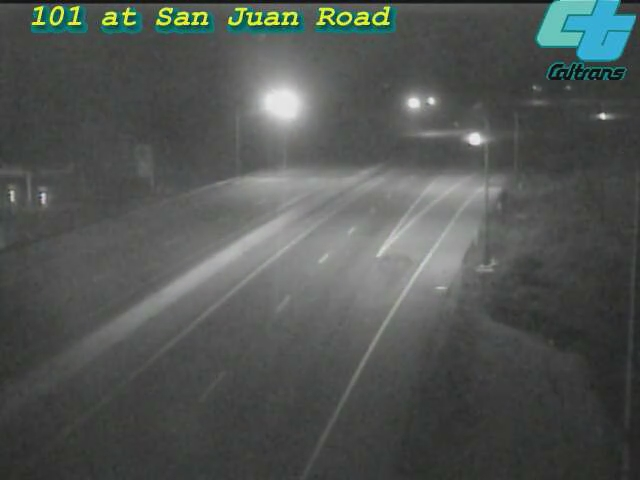vehicle: (579, 90, 629, 140), (449, 114, 499, 164)
